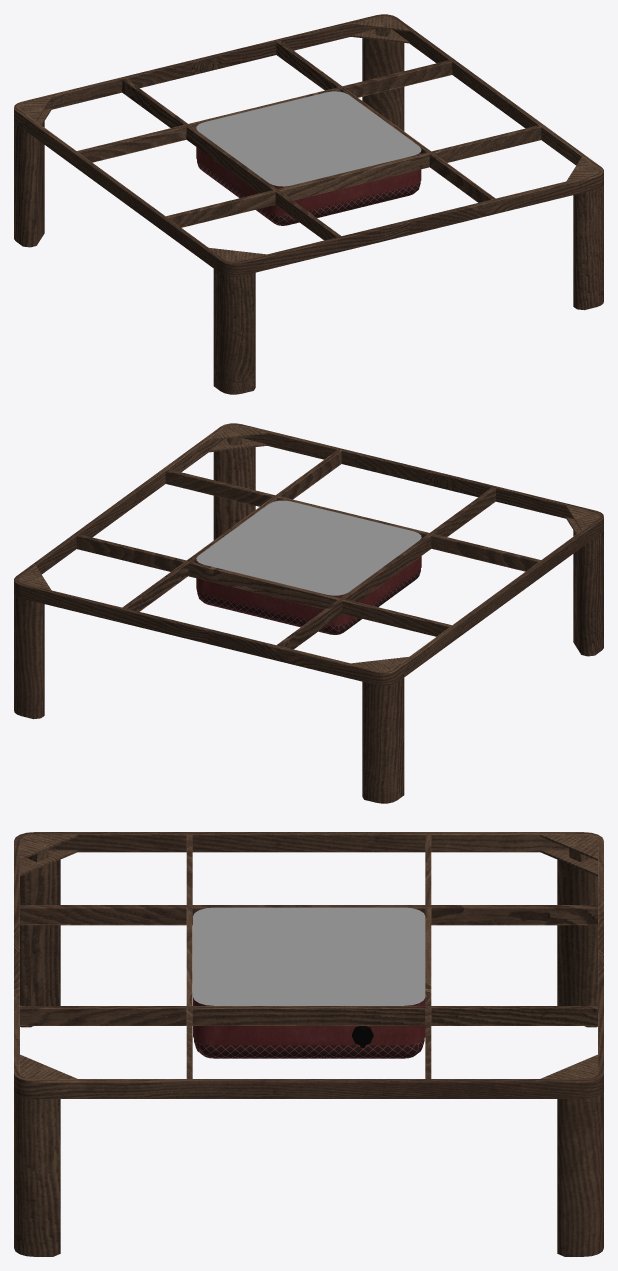
The model's file is kotatsu_bofy.fbx.
The picture shows the model from 3 angles, top to bottom: view 1: azimuth 30°, elevation 25°; view 2: azimuth 150°, elevation 25°; view 3: azimuth 270°, elevation 25°; orthographic projection. The views are drawn at different scales.
Parts seen in each view (by area): view 1: kotatsu_bofy; view 2: kotatsu_bofy; view 3: kotatsu_bofy.
Part boxes in pixels (box(x1,y1,x2,y2)): kotatsu_bofy: box(14, 14, 603, 394); kotatsu_bofy: box(14, 423, 603, 803); kotatsu_bofy: box(14, 832, 603, 1256).
Bounding box in the file's own units: 96.48 × 31.67 × 96.48.
